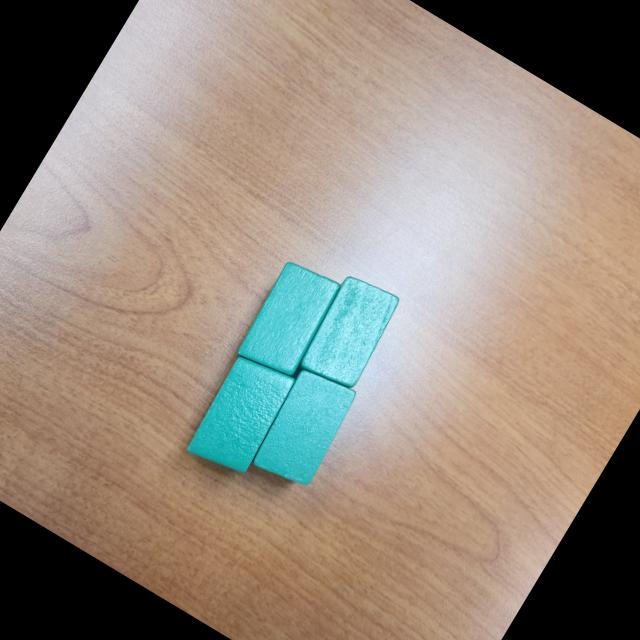green: (244, 362, 363, 497), (183, 348, 301, 482), (232, 254, 348, 385), (292, 268, 406, 399)
